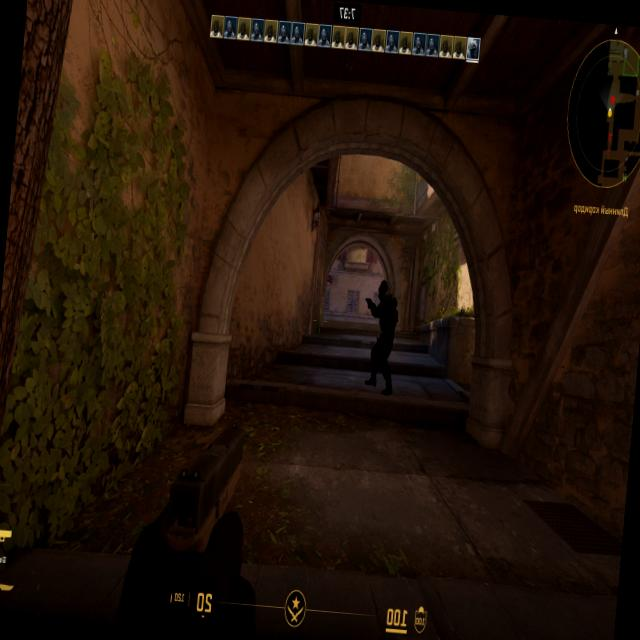CT: (373, 289, 397, 376)
CT_heat: (381, 294, 388, 299)
